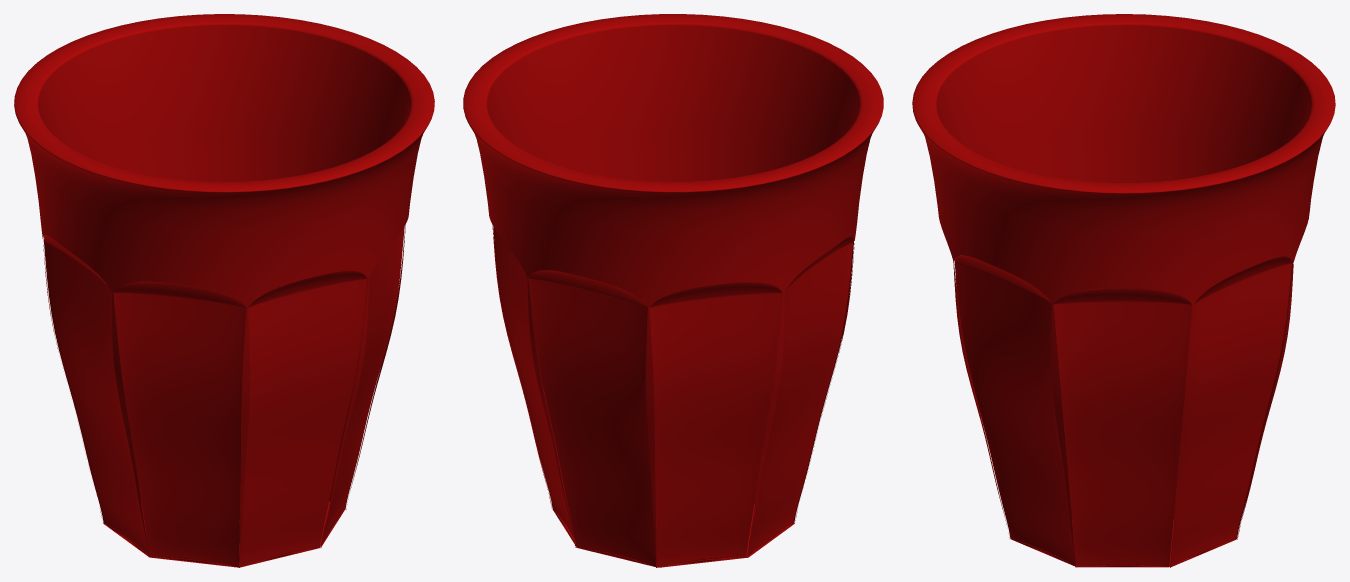
Rendered from angelica.glb.
3 views of the same model, side by side, from view 1: azimuth 30°, elevation 25°; view 2: azimuth 150°, elevation 25°; view 3: azimuth 270°, elevation 25° (orthographic).
Size of the model in its own units: 0.0601 by 0.0655 by 0.0601.
